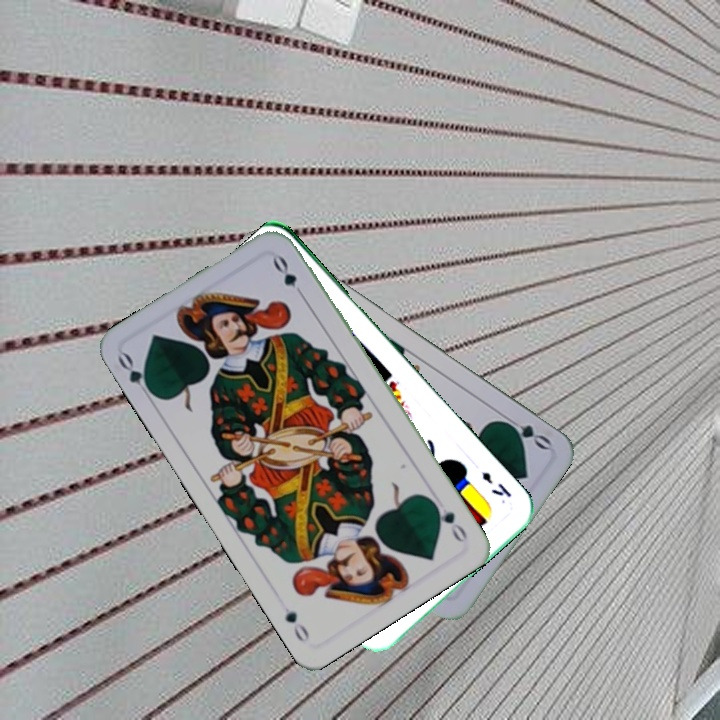EK: (477, 468, 514, 501)
GO: (113, 349, 158, 403), (497, 411, 554, 453), (427, 496, 470, 546)
